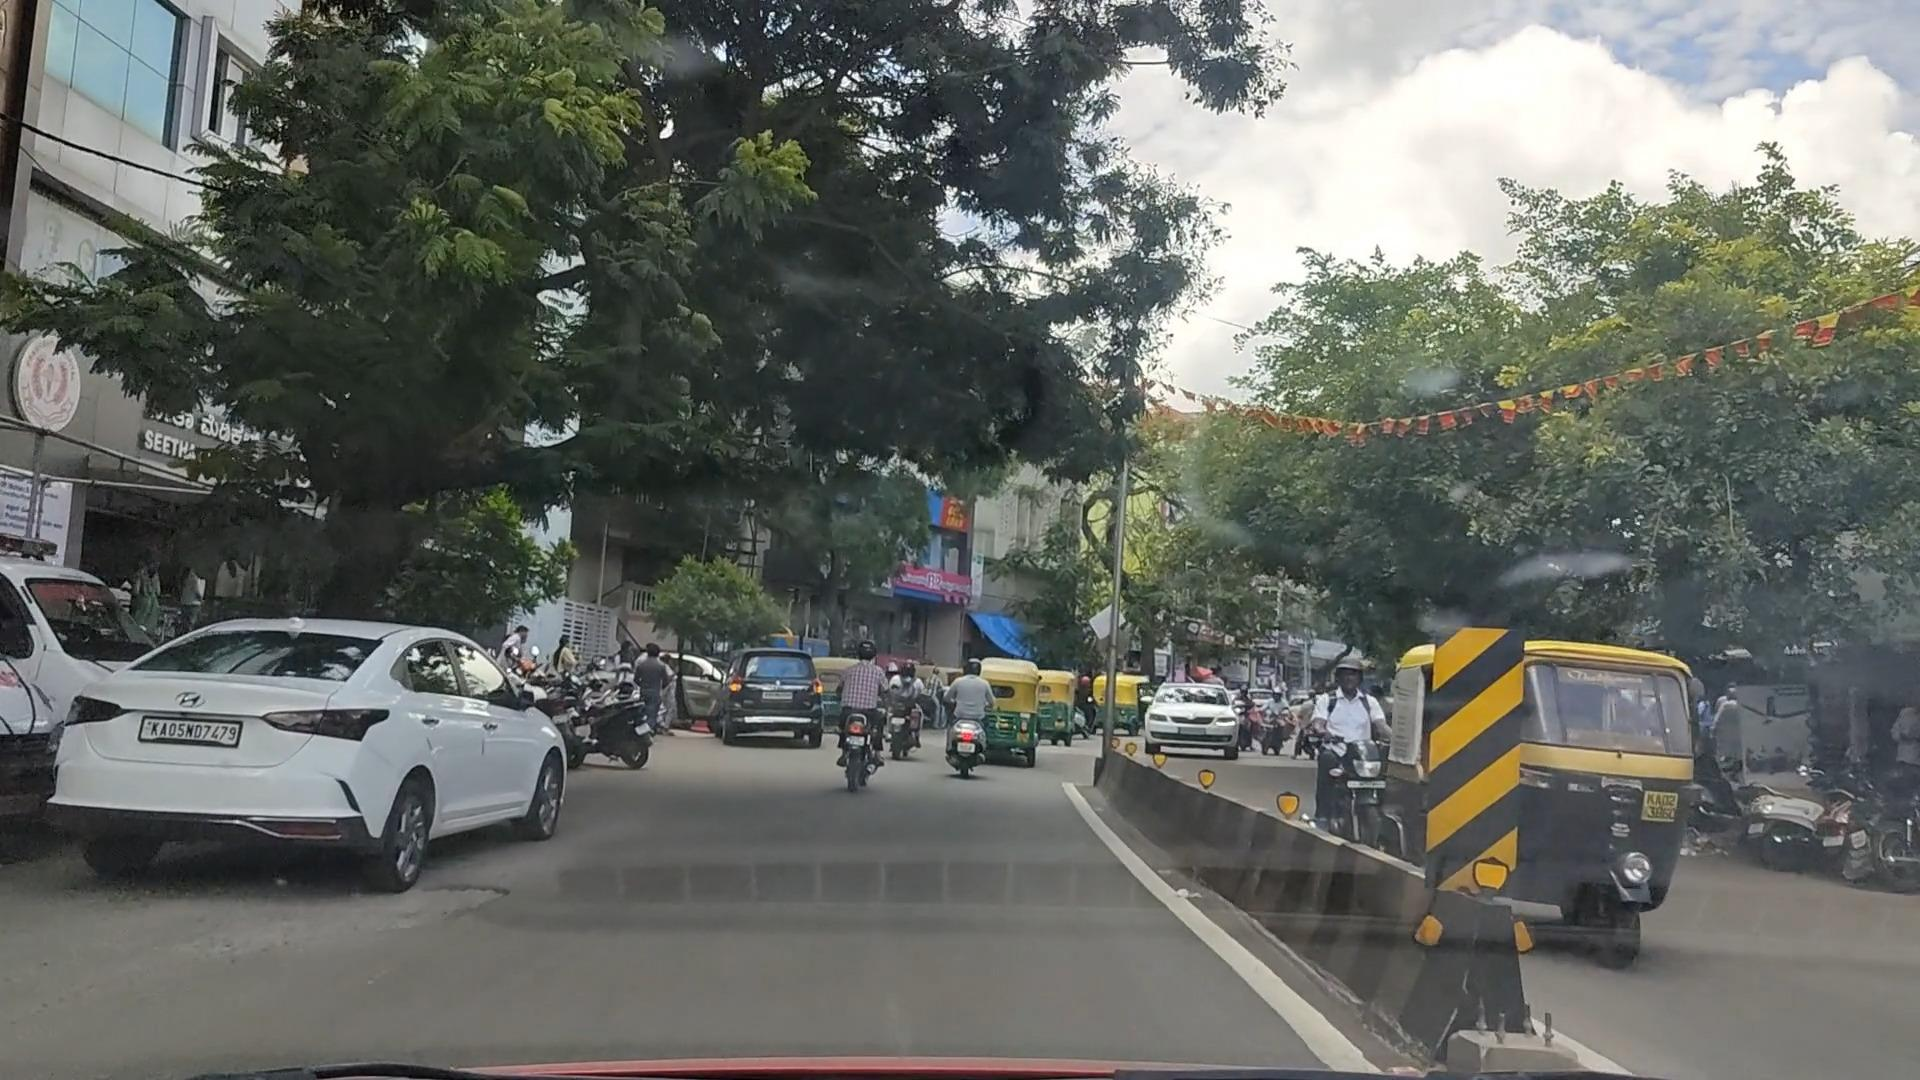LMV: (86, 613, 585, 864), (806, 616, 901, 796)
RoadDamages: (108, 862, 520, 975)
